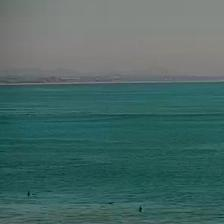surfer: (108, 201, 114, 205), (26, 192, 30, 195), (139, 208, 142, 210)
